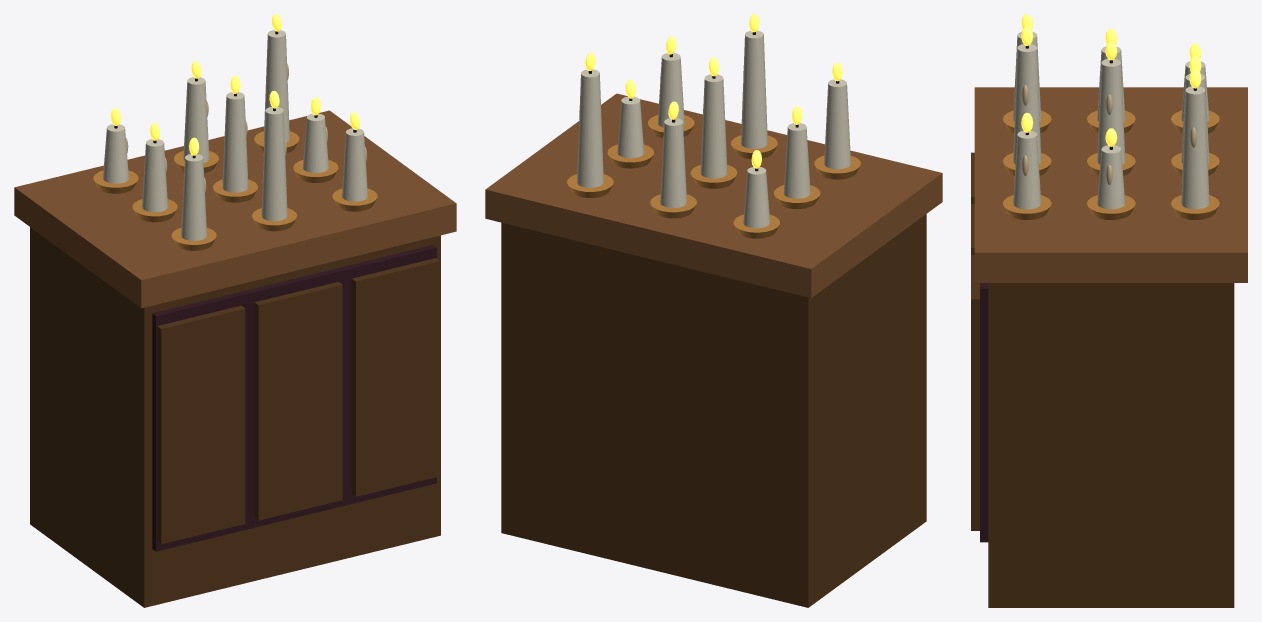
File: mia-candles.glb
3 renders of one model, left to right at view 1: azimuth 30°, elevation 25°; view 2: azimuth 150°, elevation 25°; view 3: azimuth 270°, elevation 25°, orthographic. The views are drawn at different scales.
Visible parts, largest first — view 1: Body_wood, Body_oak, Body_mattress, Body_dark, Body_brass, Body_amber; view 2: Body_wood, Body_oak, Body_mattress, Body_brass, Body_amber; view 3: Body_wood, Body_oak, Body_mattress, Body_brass, Body_dark, Body_amber, Body_ivory.
Boxes of the visible parts, x1,y1,x2,y2 form: Body_wood: [30, 227, 440, 607]; Body_oak: [14, 110, 456, 308]; Body_mattress: [103, 30, 367, 240]; Body_dark: [152, 245, 436, 551]; Body_brass: [93, 131, 377, 250]; Body_amber: [111, 14, 359, 155]; Body_wood: [501, 214, 926, 607]; Body_oak: [485, 93, 942, 297]; Body_mattress: [577, 30, 850, 228]; Body_brass: [567, 115, 860, 238]; Body_amber: [585, 14, 842, 168]; Body_wood: [971, 152, 1234, 607]; Body_oak: [974, 87, 1247, 282]; Body_mattress: [1013, 32, 1209, 209]; Body_brass: [1003, 110, 1219, 220]; Body_dark: [980, 283, 988, 542]; Body_amber: [1021, 14, 1201, 146]; Body_ivory: [1022, 85, 1196, 184].
Size of the model in its own units: 0.913 by 1.29 by 0.6455.
